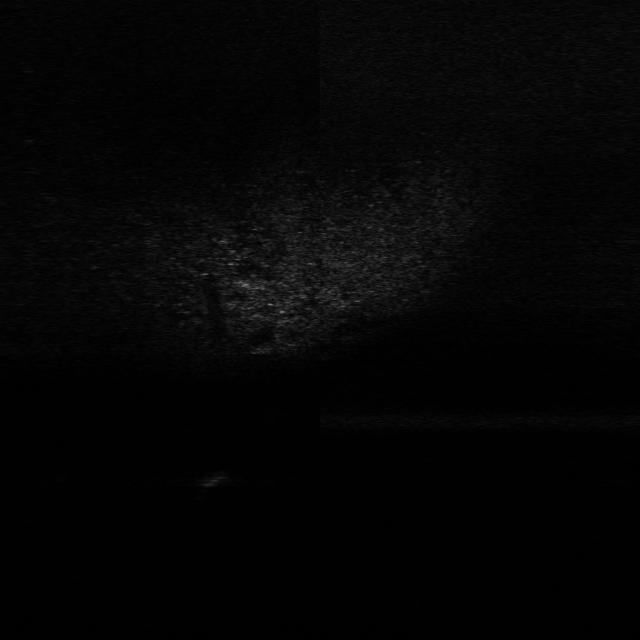cylinder: (196, 469, 232, 487)
